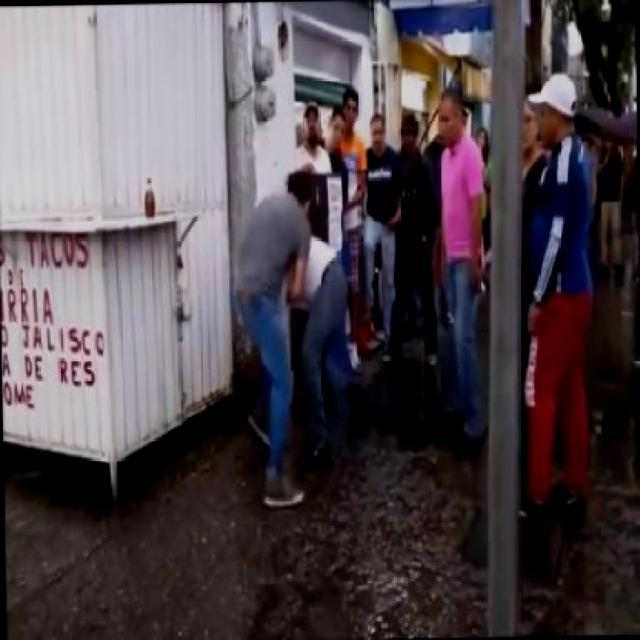fight: (232, 170, 354, 488)
non-fight: (520, 74, 598, 522), (430, 82, 488, 442)
